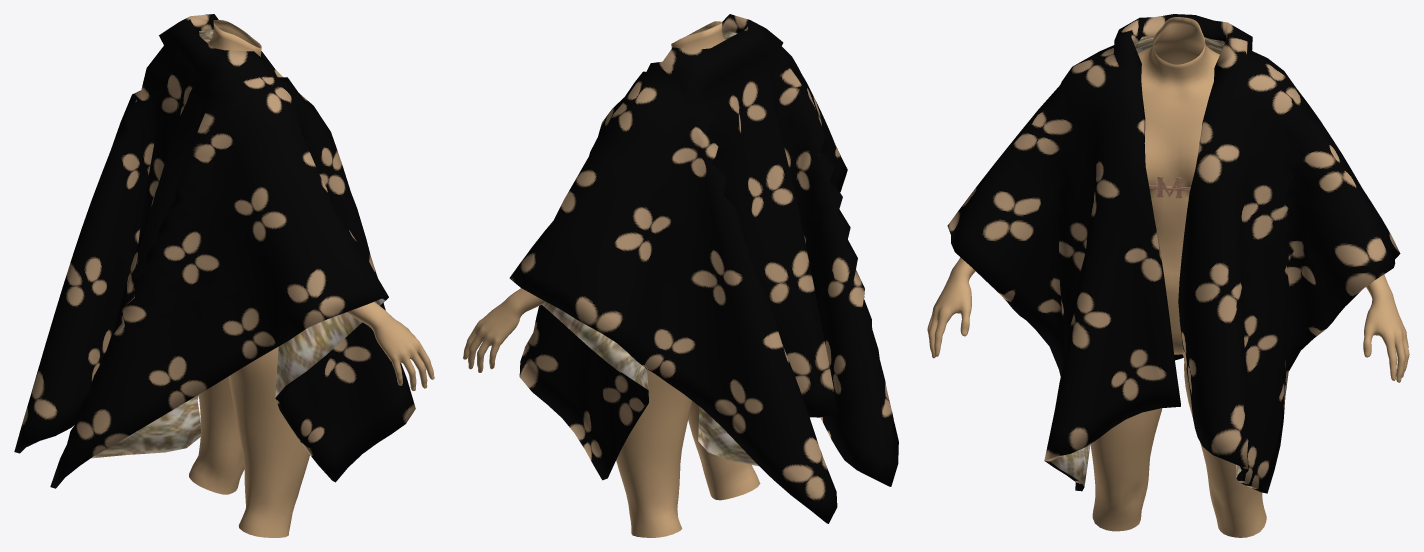
The model's file is asset.glb.
3 views of the same model, side by side, from view 1: azimuth 30°, elevation 25°; view 2: azimuth 150°, elevation 25°; view 3: azimuth 270°, elevation 25° (orthographic).
Parts seen in each view (by area): view 1: Plane.007, Female body reference.001; view 2: Plane.007, Female body reference.001; view 3: Plane.007, Female body reference.001.
Boxes of the visible parts, x1,y1,x2,y2 form: Plane.007: (14,14,415,488); Female body reference.001: (189,20,434,537); Plane.007: (509,14,898,523); Female body reference.001: (463,21,760,537); Plane.007: (947,14,1400,493); Female body reference.001: (927,17,1409,537).
Size of the model in its own units: 3.4 by 4.7 by 4.14.
Materials: 4 (4 with a texture image).
